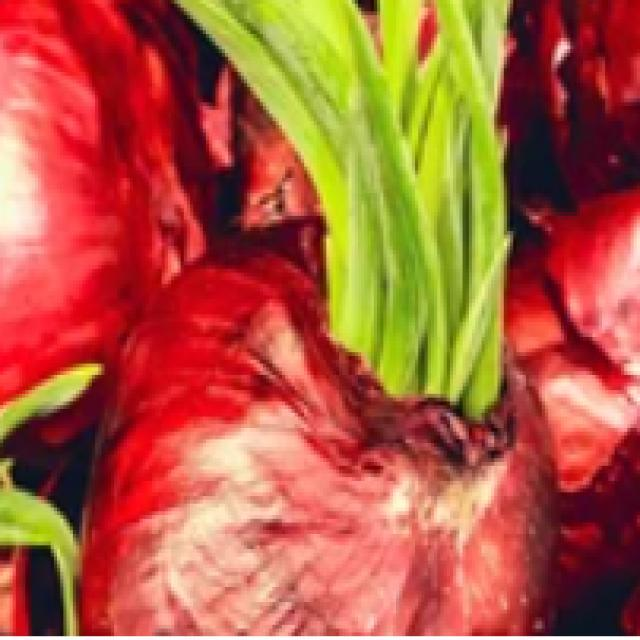sprouting: (182, 0, 531, 436)
